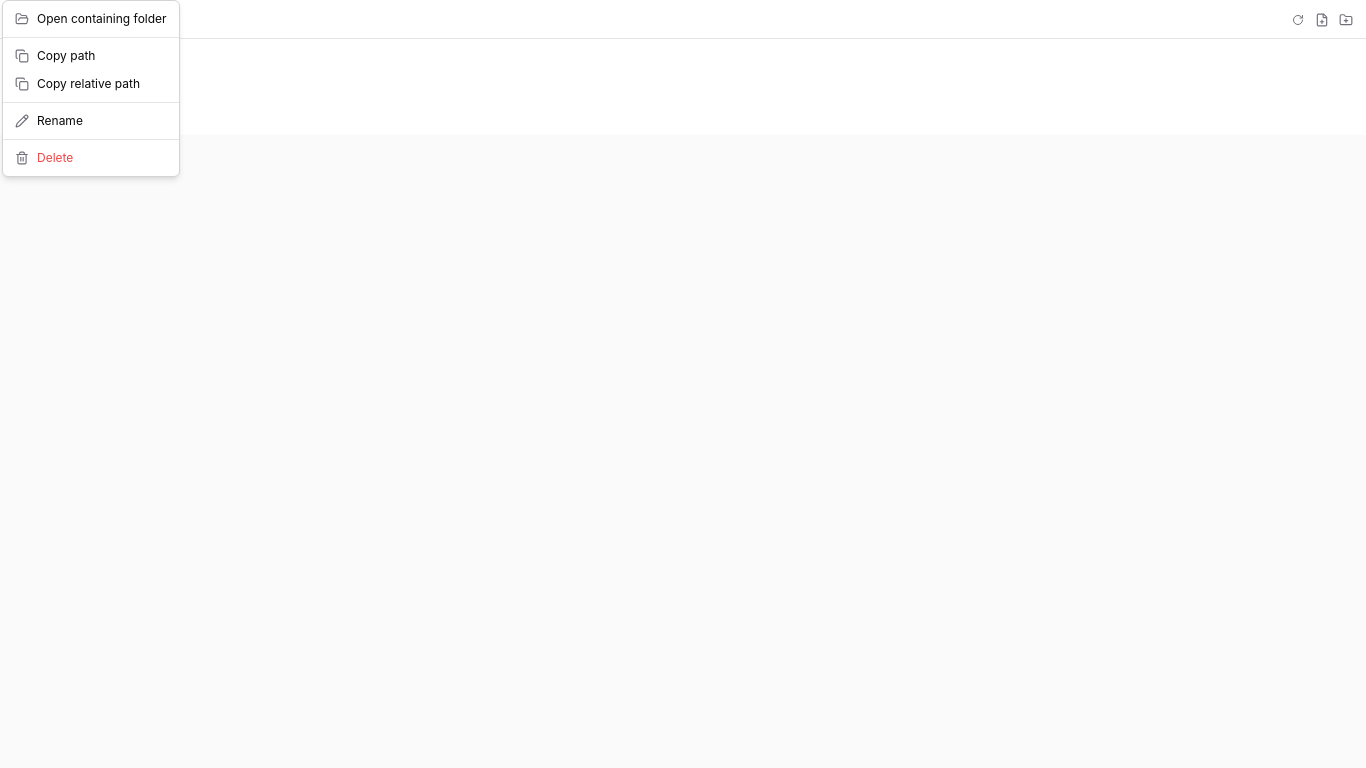
Test: the context menu › says so when the item to reveal is gone
Check: the menu is shown, box [2,0,180,177]
Step 1. Click the menu item "Open containing folder" → (91, 18), box [15,11,167,26]
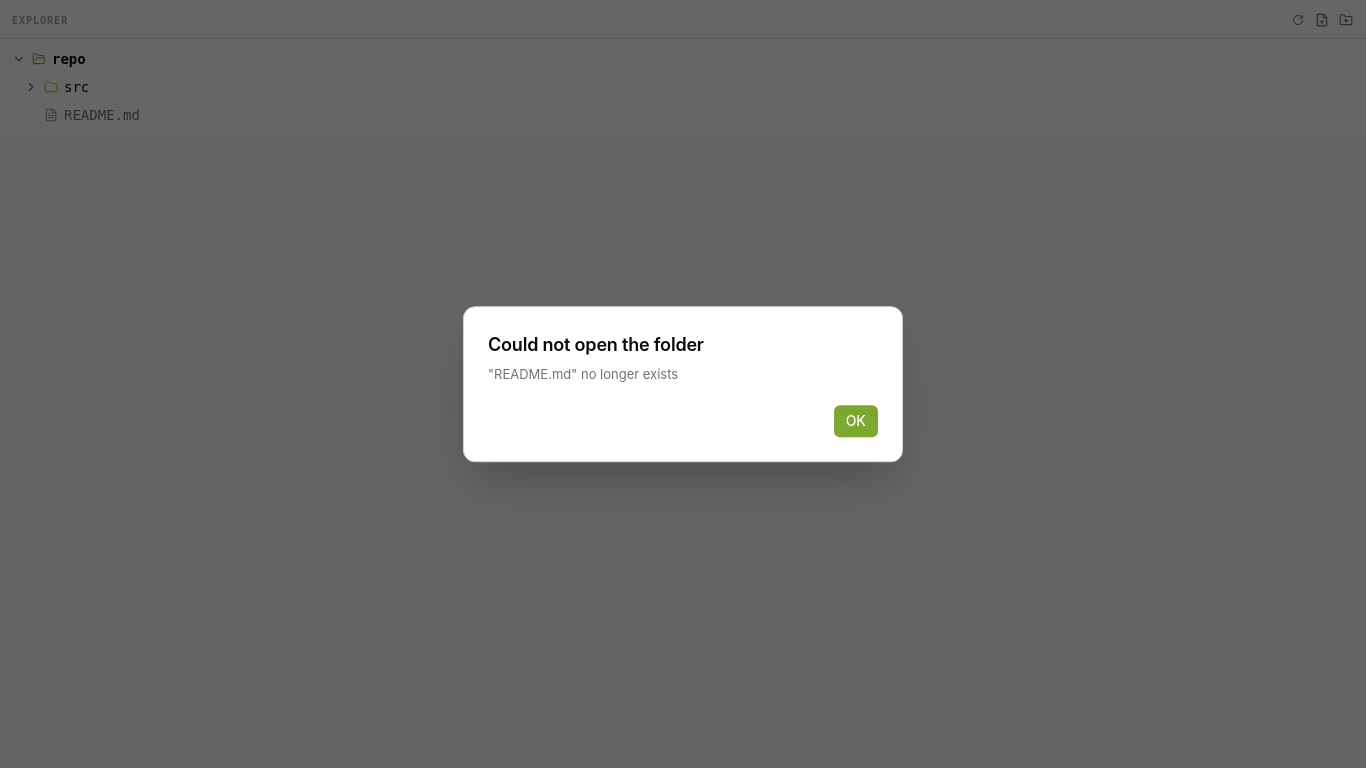
Check: the heading "Could not open the folder" is shown, box [488,334,704,355]
